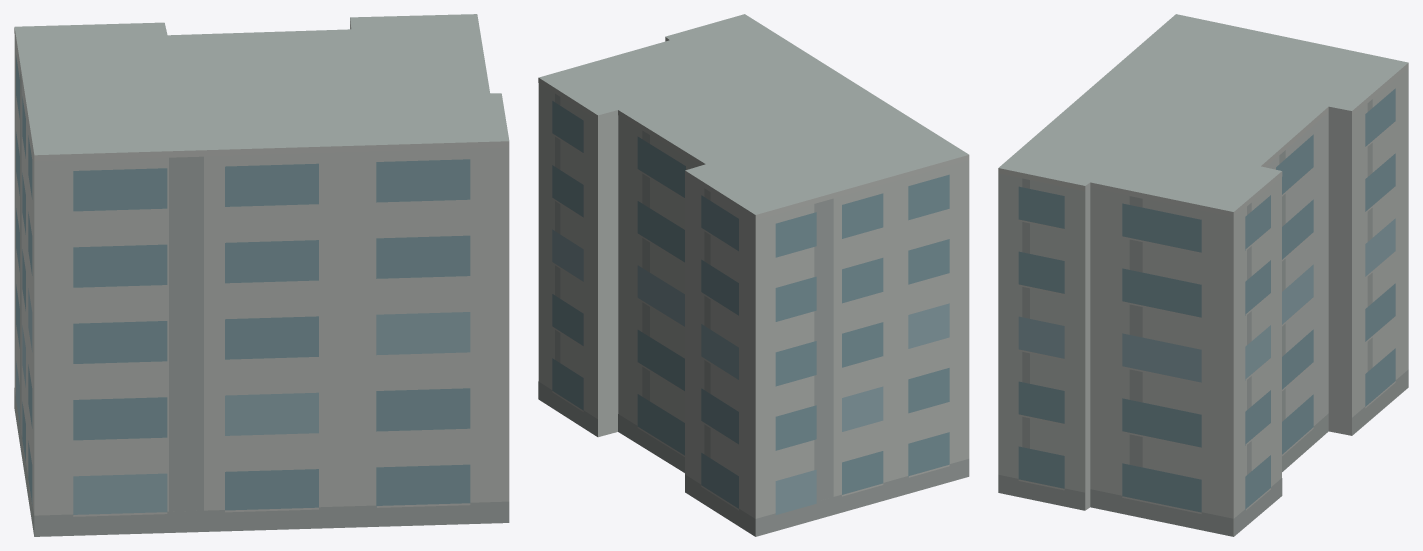
File: survey-upis-32890109.glb
The picture shows the model from 3 angles, left to right: view 1: azimuth 30°, elevation 25°; view 2: azimuth 150°, elevation 25°; view 3: azimuth 270°, elevation 25°; orthographic projection. The views are drawn at different scales.
Visible parts, largest first — view 1: survey-upis-32890109.tmp; view 2: survey-upis-32890109.tmp; view 3: survey-upis-32890109.tmp.
Boxes of the visible parts, left/top/right/bottom form: survey-upis-32890109.tmp: left=14, top=14, right=509, bottom=536; survey-upis-32890109.tmp: left=538, top=14, right=969, bottom=536; survey-upis-32890109.tmp: left=998, top=14, right=1408, bottom=536.
Size of the model in its own units: 18.84 by 14.4 by 16.5.
